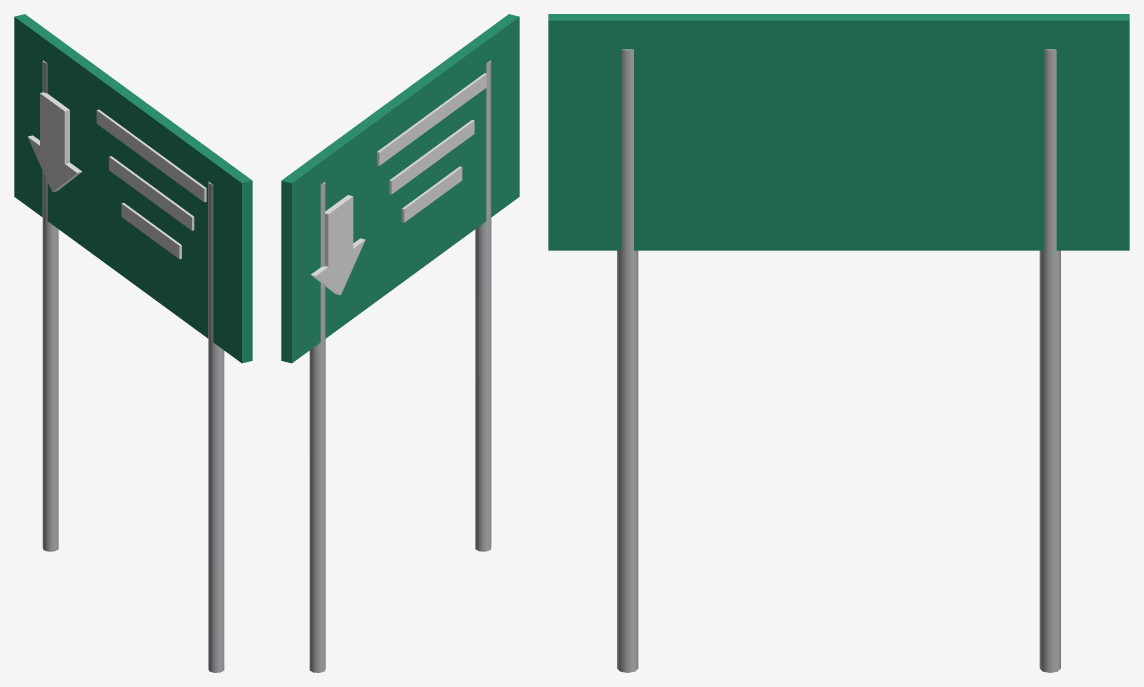
The model's file is SM_RoadSign.fbx.
3 views of the same model, side by side, from view 1: azimuth 30°, elevation 25°; view 2: azimuth 150°, elevation 25°; view 3: azimuth 270°, elevation 25° (orthographic). The views are drawn at different scales.
Parts seen in each view (by area): view 1: SM_RoadSign; view 2: SM_RoadSign; view 3: SM_RoadSign.
Part boxes in pixels (left/top/right/bottom): SM_RoadSign: left=14, top=14, right=252, bottom=672; SM_RoadSign: left=281, top=14, right=519, bottom=672; SM_RoadSign: left=548, top=14, right=1129, bottom=672.
Bounding box in the file's own units: 25 × 680 × 550.
